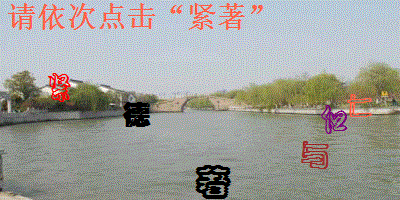result: (186, 1, 248, 32)
text: (191, 163, 234, 200), (299, 139, 332, 171), (317, 104, 349, 136), (121, 100, 154, 130), (344, 91, 376, 120), (48, 71, 72, 103)
